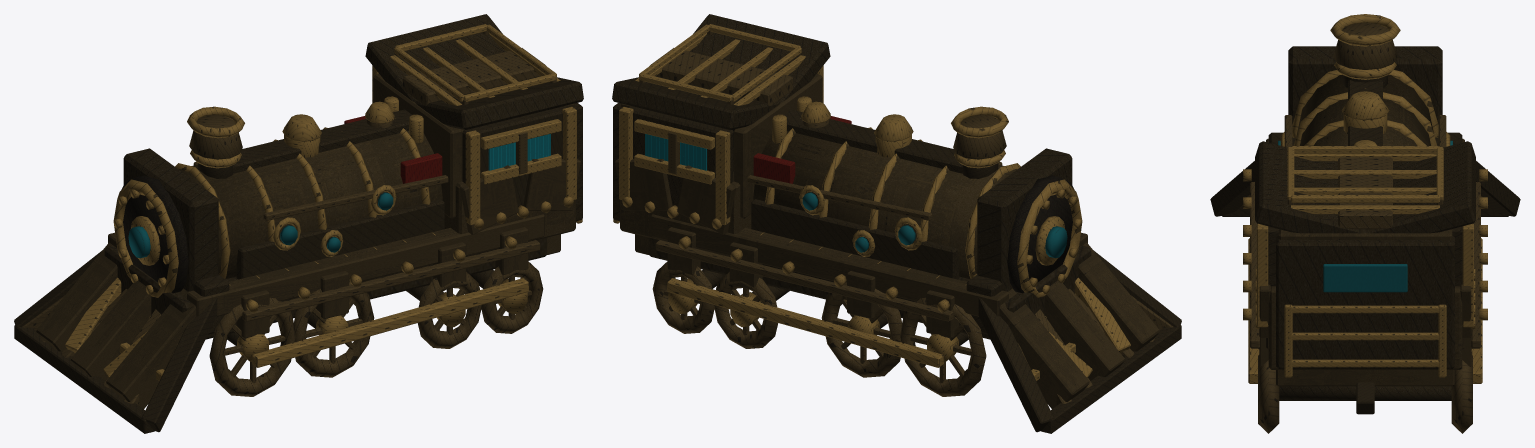
Rendered from railcar.glb.
3 renders of one model, left to right at view 1: azimuth 30°, elevation 25°; view 2: azimuth 150°, elevation 25°; view 3: azimuth 270°, elevation 25°, orthographic. The views are drawn at different scales.
Parts seen in each view (by area): view 1: Railcar_Wheels, Railcar_Boiler, Railcar_Cabin; view 2: Railcar_Wheels, Railcar_Boiler, Railcar_Cabin; view 3: Railcar_Cabin, Railcar_Boiler, Railcar_Wheels.
Boxes of the visible parts, box(x1,y1,x2,y2) form: Railcar_Wheels: box(14, 214, 560, 433); Railcar_Boiler: box(113, 96, 462, 297); Railcar_Cabin: box(365, 14, 583, 256); Railcar_Wheels: box(635, 214, 1181, 433); Railcar_Boiler: box(733, 96, 1082, 297); Railcar_Cabin: box(612, 14, 830, 256); Railcar_Cabin: box(1255, 141, 1475, 377); Railcar_Boiler: box(1278, 14, 1452, 147); Railcar_Wheels: box(1210, 132, 1520, 433).
Bounding box in the file's own units: 2.4 × 1.2 × 1.25.
Materials: 1 (1 with a texture image).
